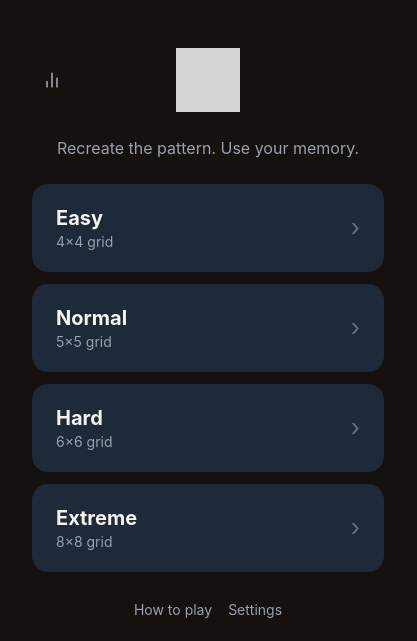
Settings routing (App integration) › "Settings" button on DifficultyPicker navigates to settings screen
Click the button "Settings". click: (255,610)
box: [228,596,282,624]
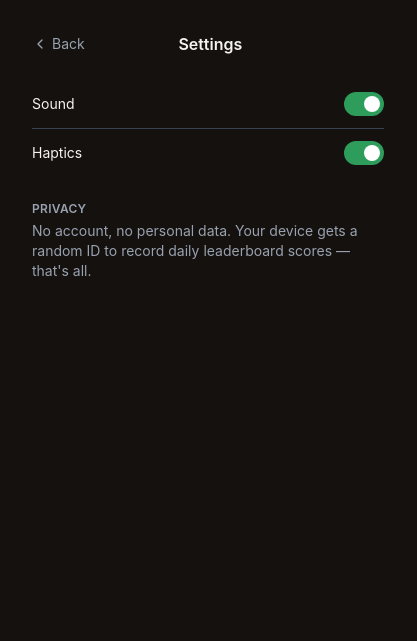
Expected: the heading "Settings" is shown, [178,32,242,56]
Now the element with test id "settings-screen" is shown, box [16,16,400,297]
